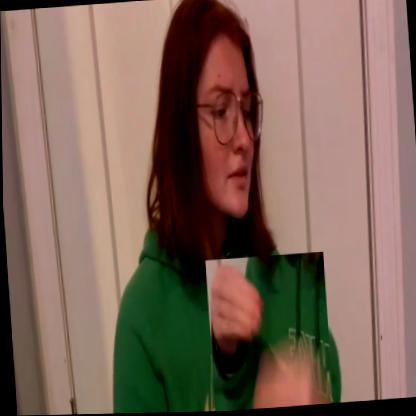Fix: (204, 252, 332, 412)
